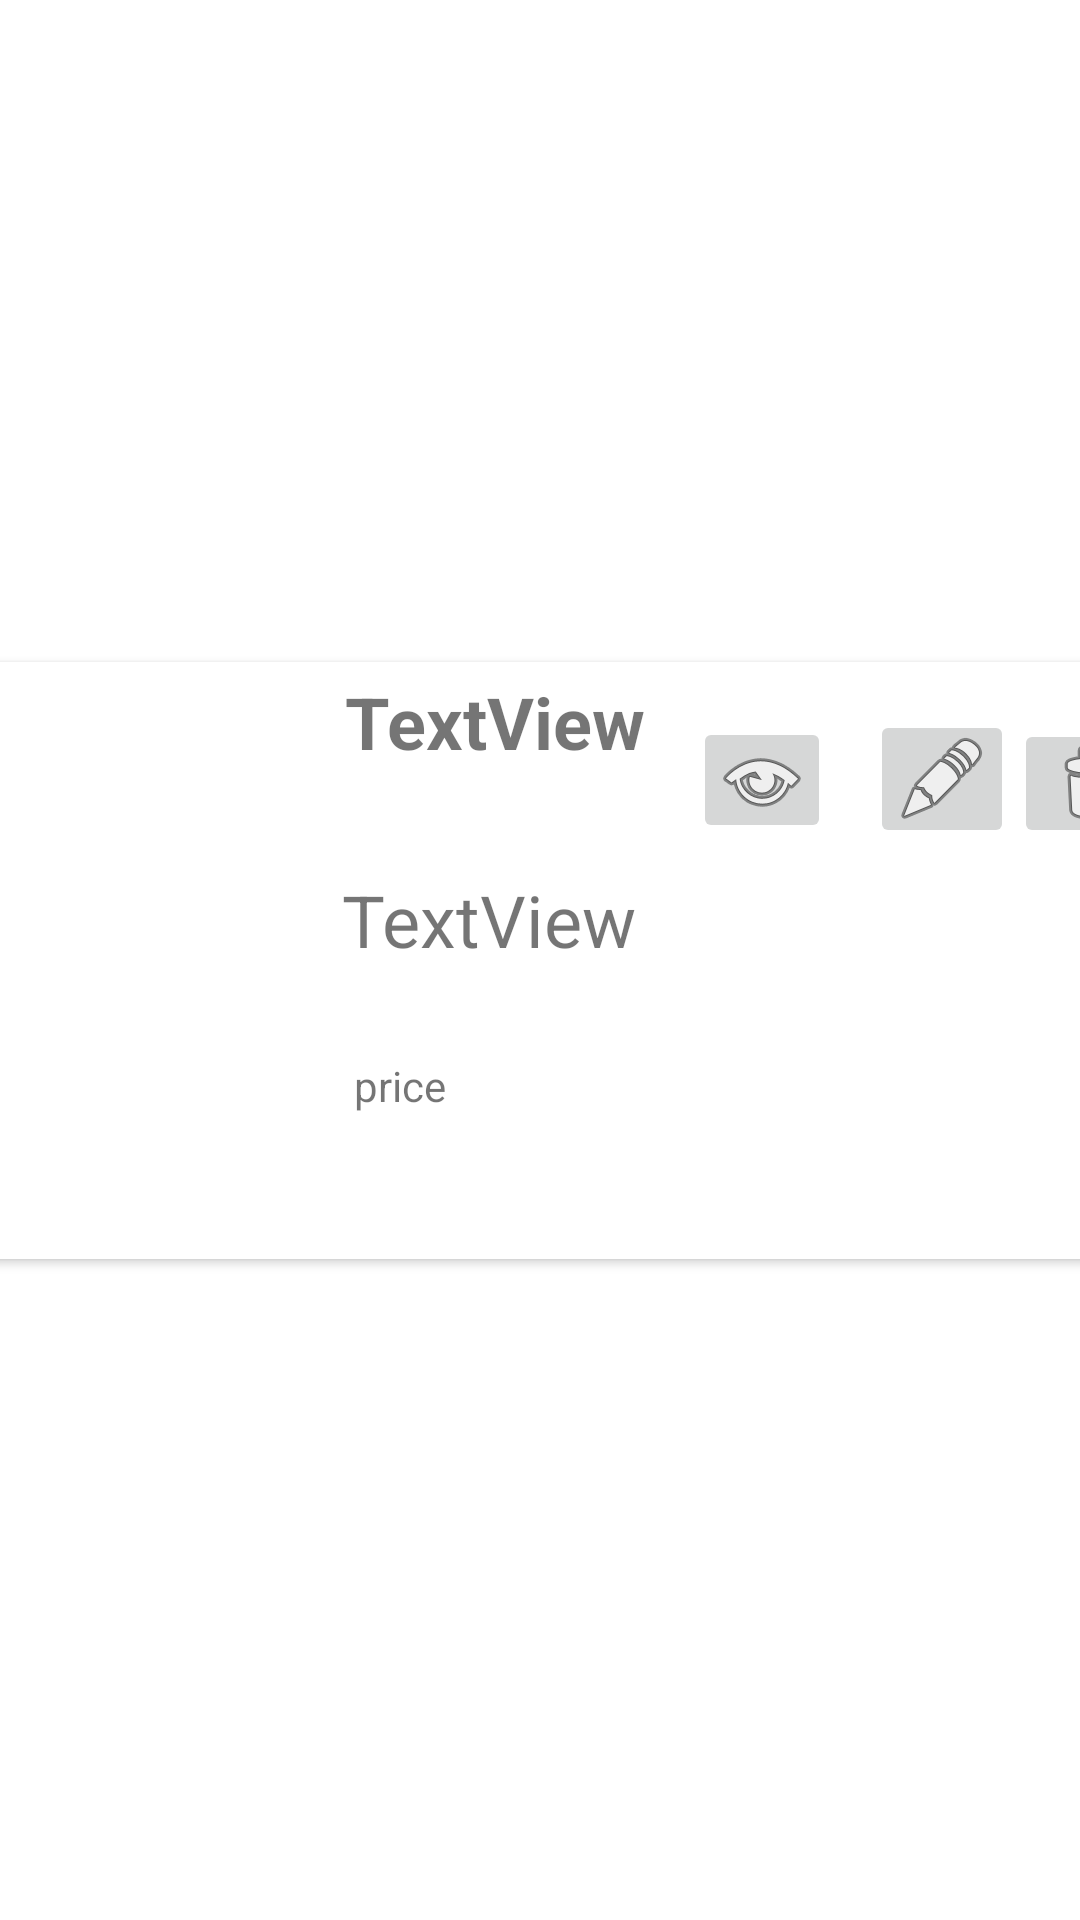

Locate icon controls on the screen. Image size 1080w x 1920h, boxes as [x1, y1, x2, y2].
edit: [882, 728, 1002, 830]
